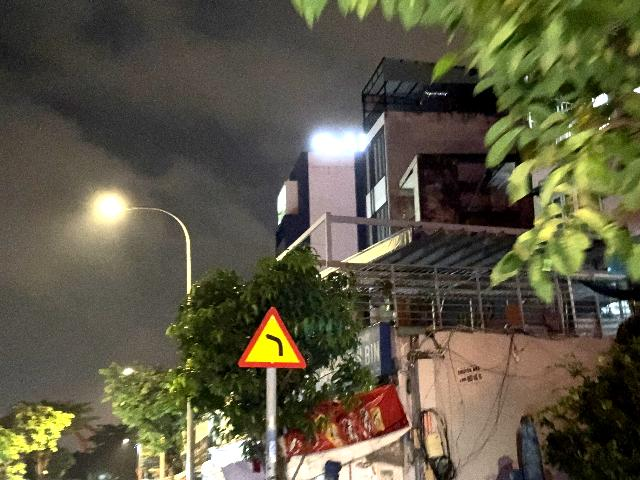cho-ngoat-nguy-hiem-ben-trai: (237, 306, 307, 369)
